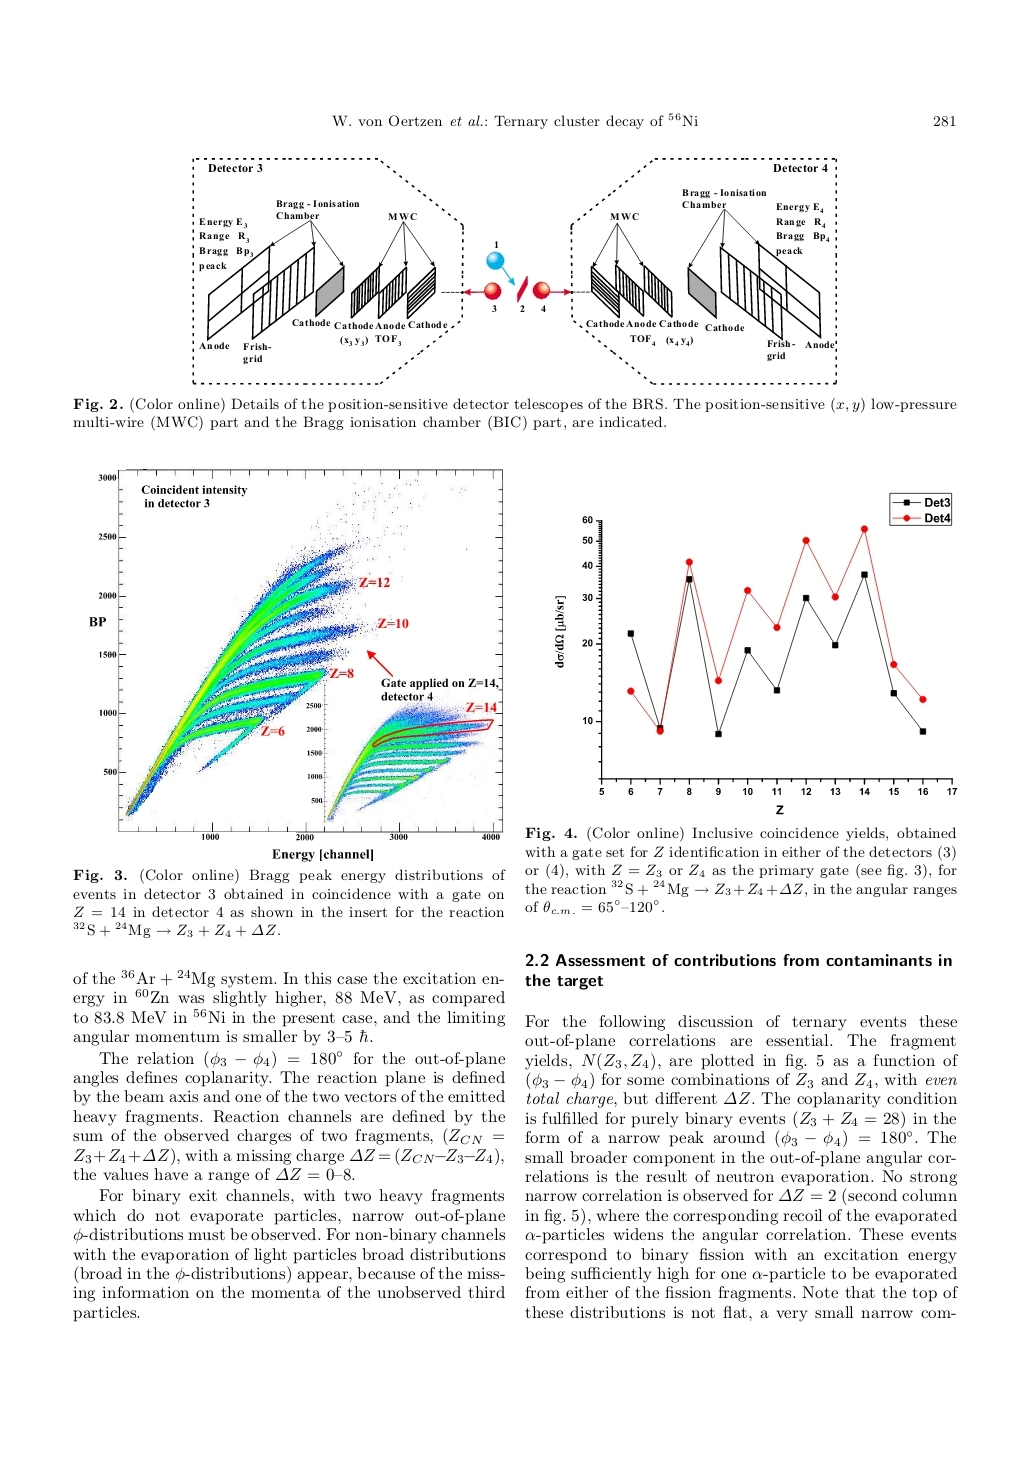figure: (89, 467, 504, 861), (192, 159, 837, 384), (555, 492, 957, 814)
